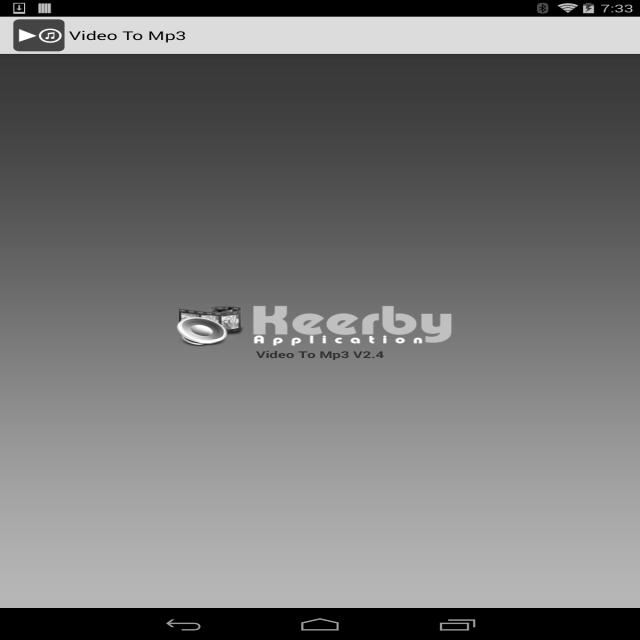ImageView: (162, 303, 239, 347), (12, 18, 59, 53)
TextView: (246, 300, 465, 362), (70, 22, 192, 46)
